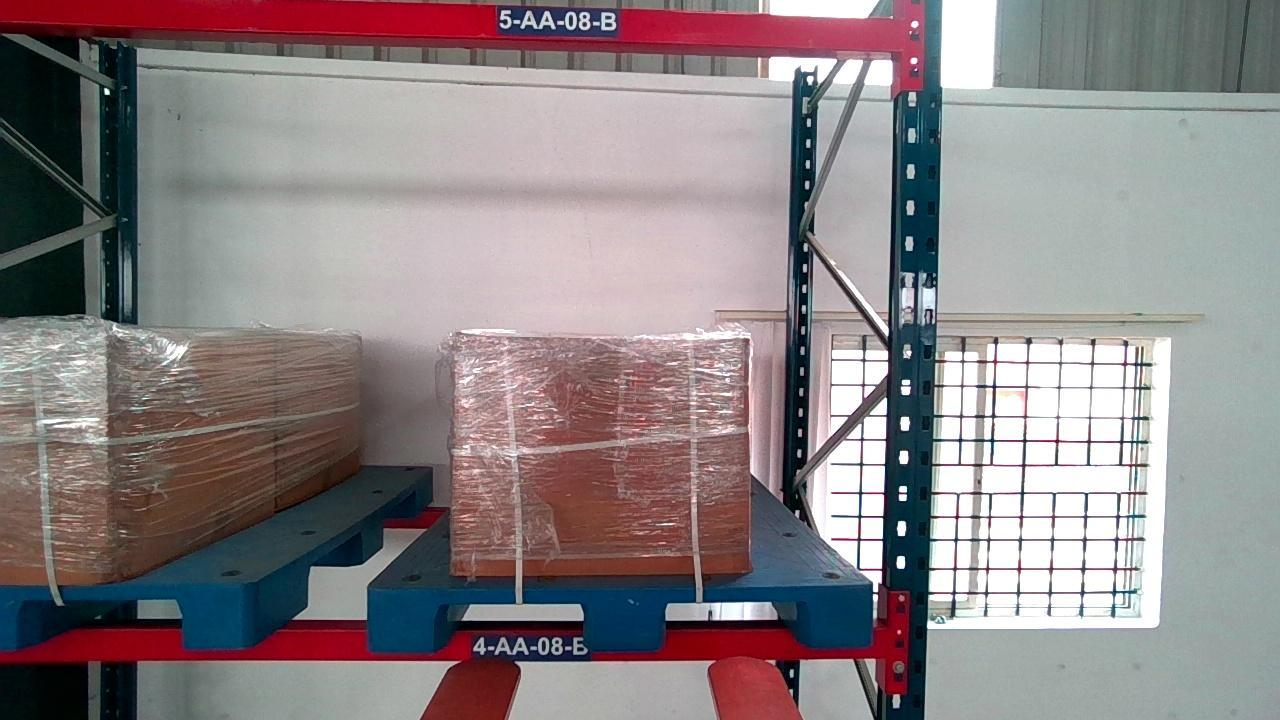h_rack: (1, 2, 902, 52), (1, 620, 886, 658)
small_pallet: (368, 586, 871, 648), (0, 583, 248, 648)
